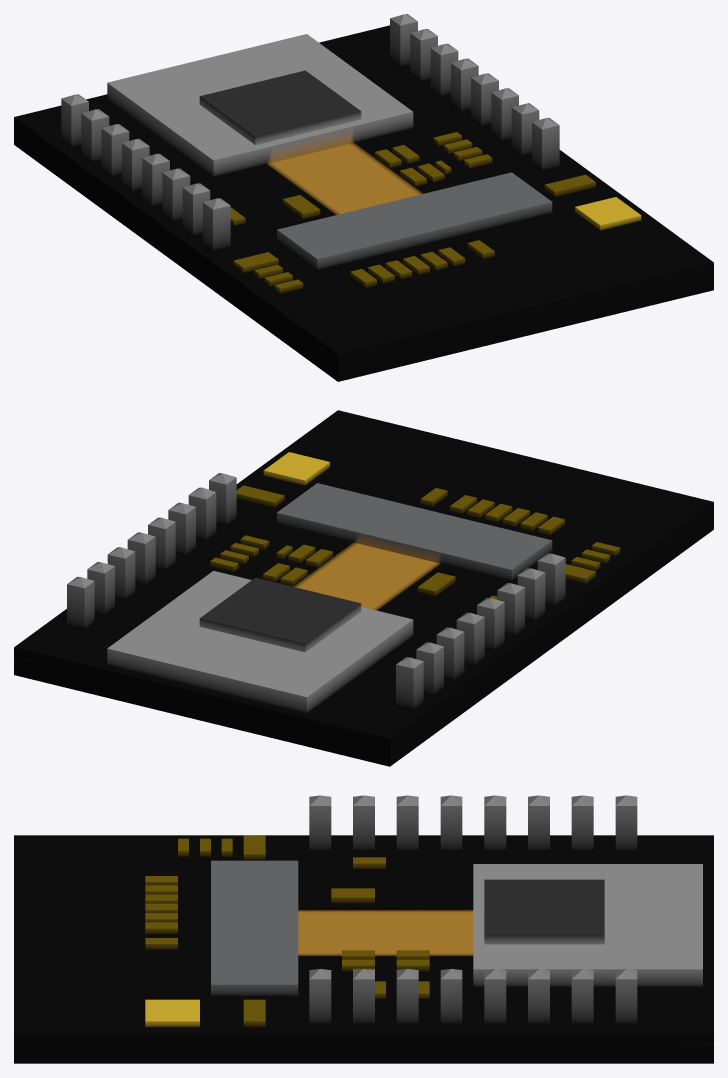
The model's file is camera.fbx.
3 views of the same model, one above another, from view 1: azimuth 30°, elevation 25°; view 2: azimuth 150°, elevation 25°; view 3: azimuth 270°, elevation 25° (orthographic). The views are drawn at different scales.
Parts seen in each view (by area): view 1: Cube; view 2: Cube; view 3: Cube.
Boxes of the visible parts, x1=… form: Cube: x1=14, y1=14, x2=713, y2=381; Cube: x1=14, y1=410, x2=713, y2=766; Cube: x1=14, y1=795, x2=713, y2=1063.
Size of the model in its own units: 142 by 27 by 212.
